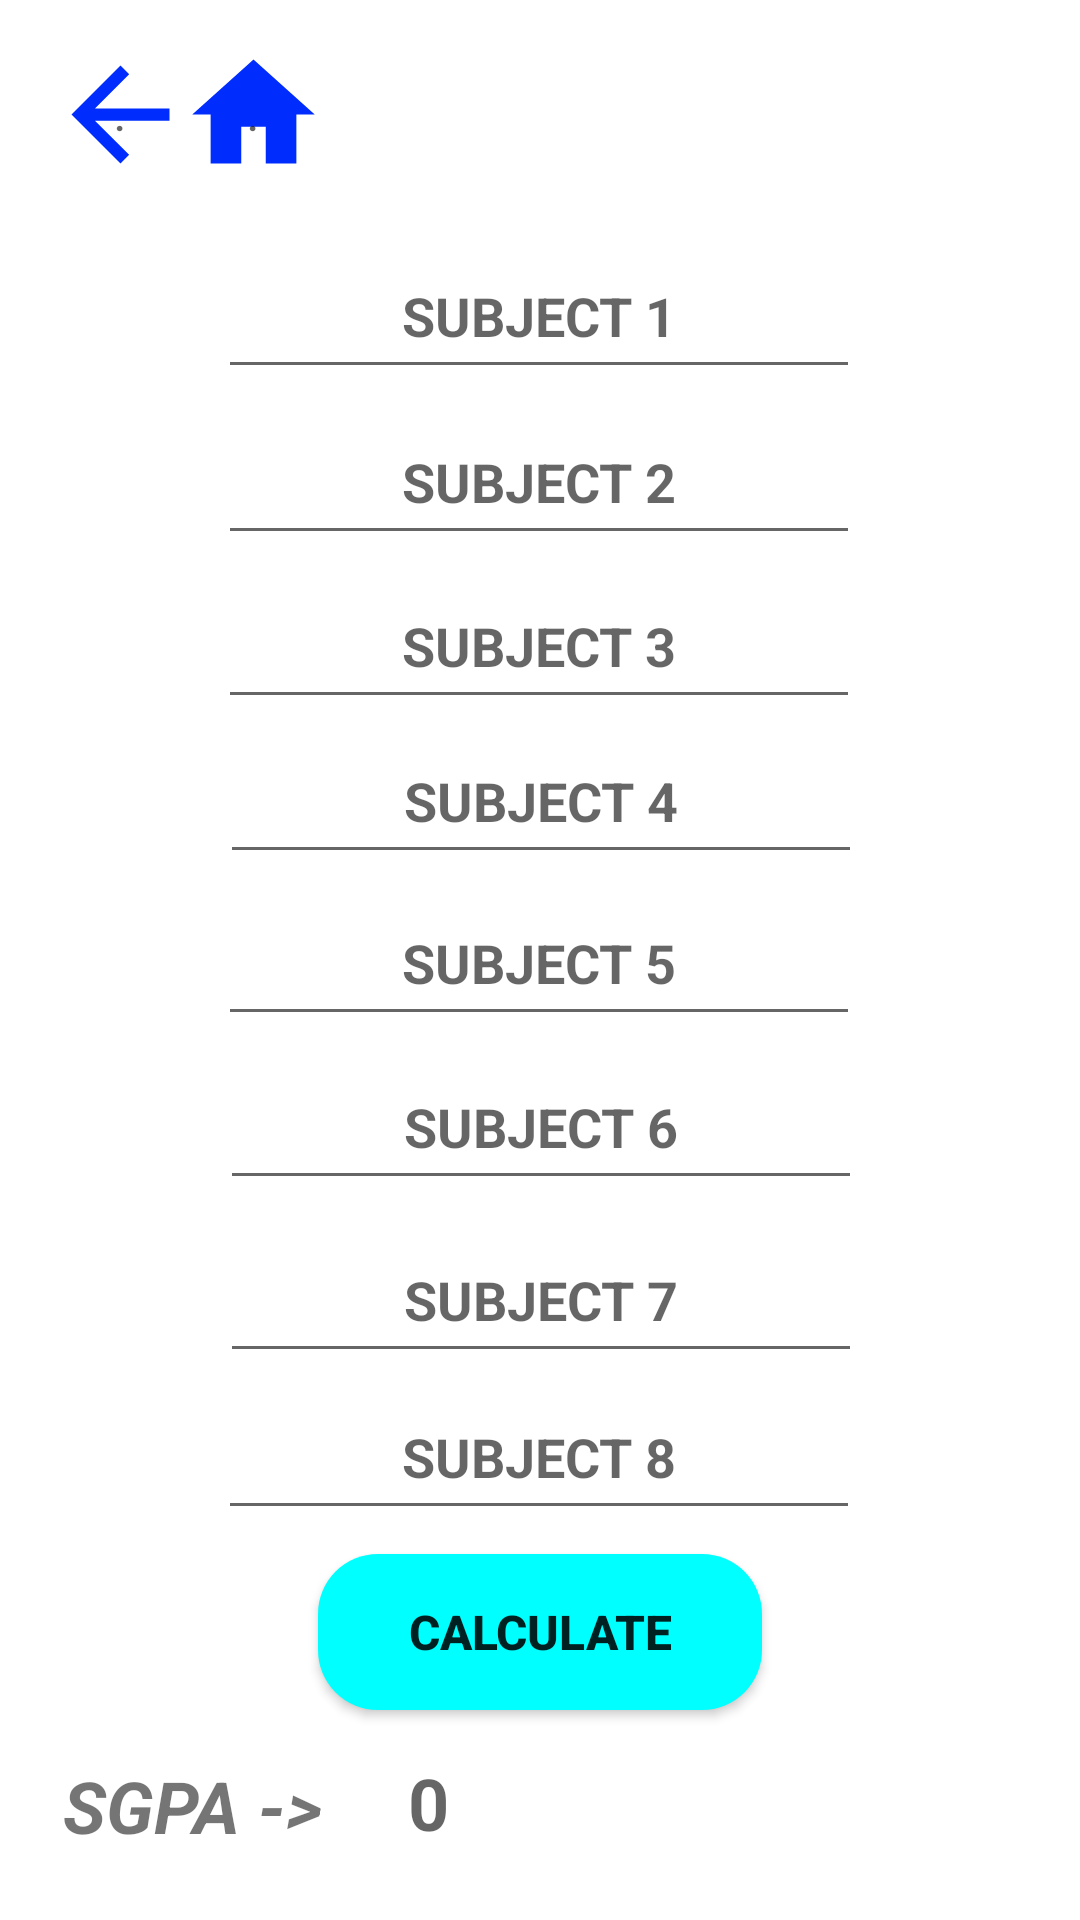

Point at icon controls on the screen. Image size 1080 × 1920, points as point (x, y).
arrow back: point (120, 114)
home: point (253, 111)
